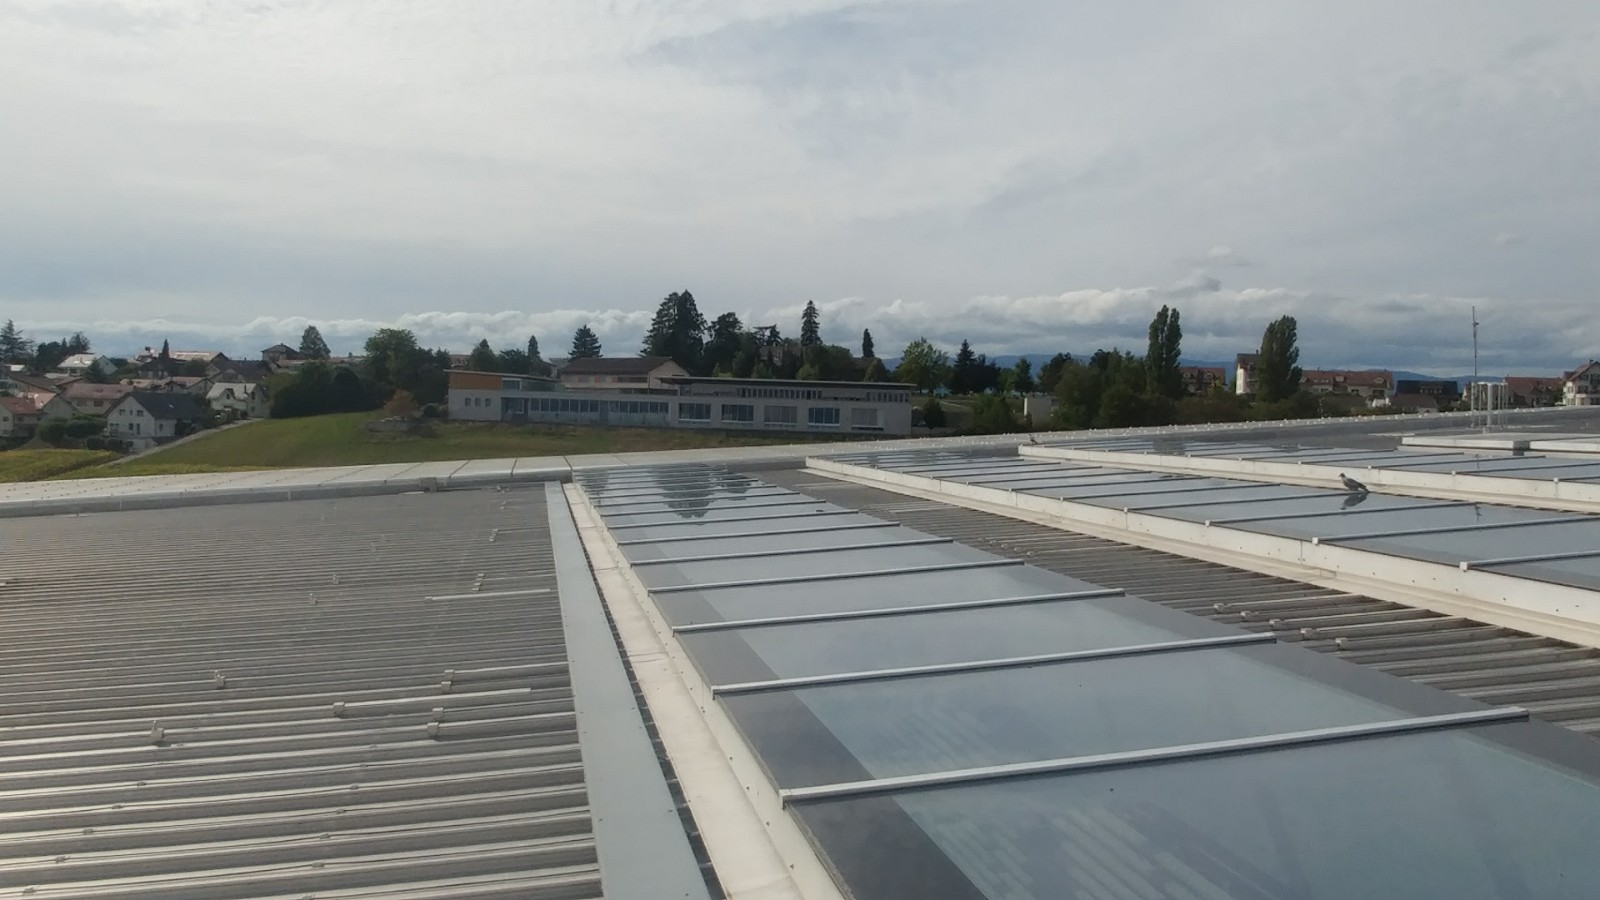Pigeon: (1338, 468, 1369, 496)
